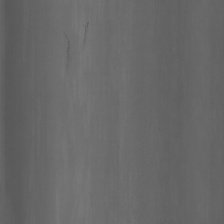water_spot: (61, 12, 92, 83)
